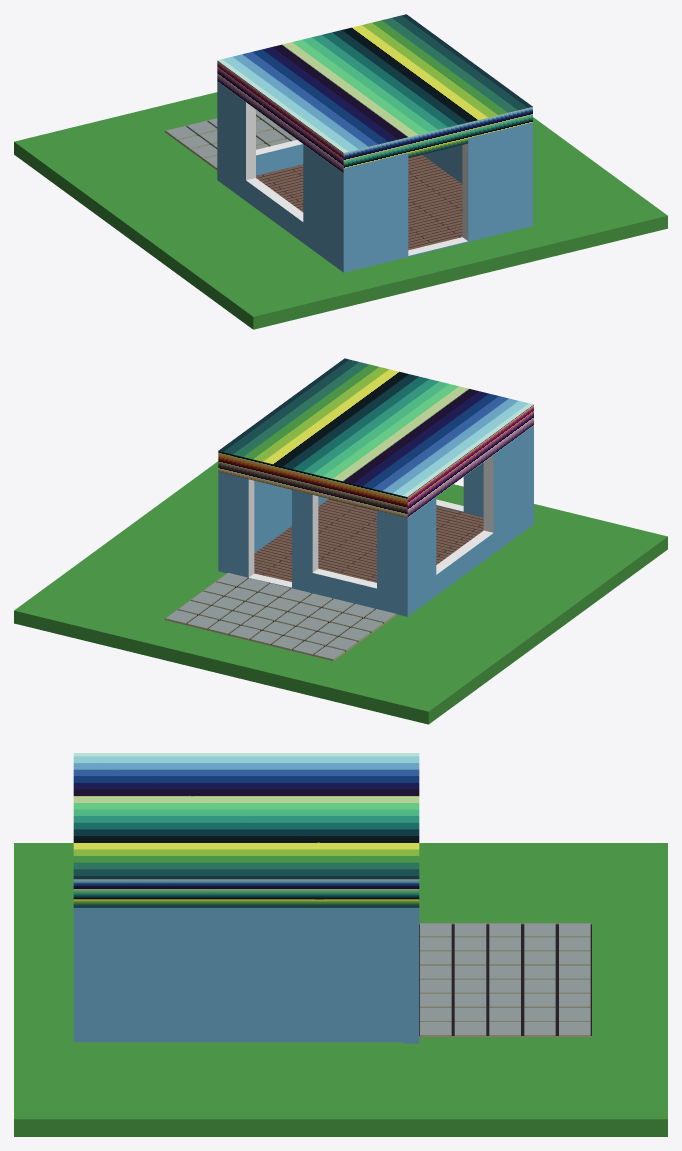
The model's file is room.fbx.
The picture shows the model from 3 angles, top to bottom: view 1: azimuth 30°, elevation 25°; view 2: azimuth 150°, elevation 25°; view 3: azimuth 270°, elevation 25°; orthographic projection. The views are drawn at different scales.
Parts seen in each view (by area): view 1: room; view 2: room; view 3: room.
Boxes of the visible parts, x1,y1,x2,y2 form: room: [14, 14, 667, 329]; room: [14, 358, 667, 724]; room: [14, 753, 667, 1136].
Size of the model in its own units: 8325 by 2561 by 8325.
